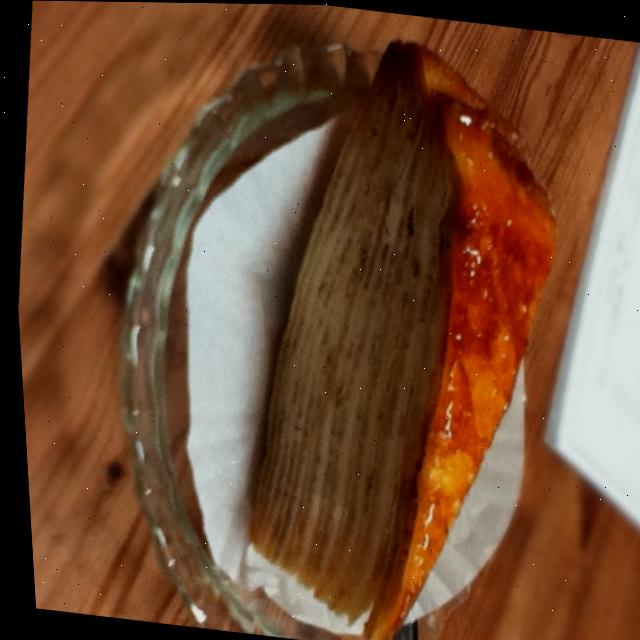蛋糕甜品: (173, 11, 625, 640)
